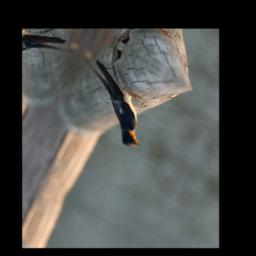Swallow: (59, 51, 166, 156)
